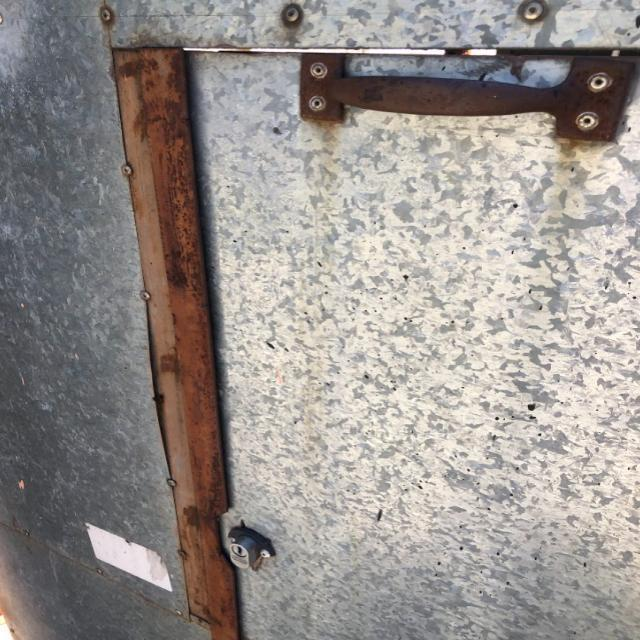Corrosion: (111, 50, 245, 640), (299, 52, 638, 141)
